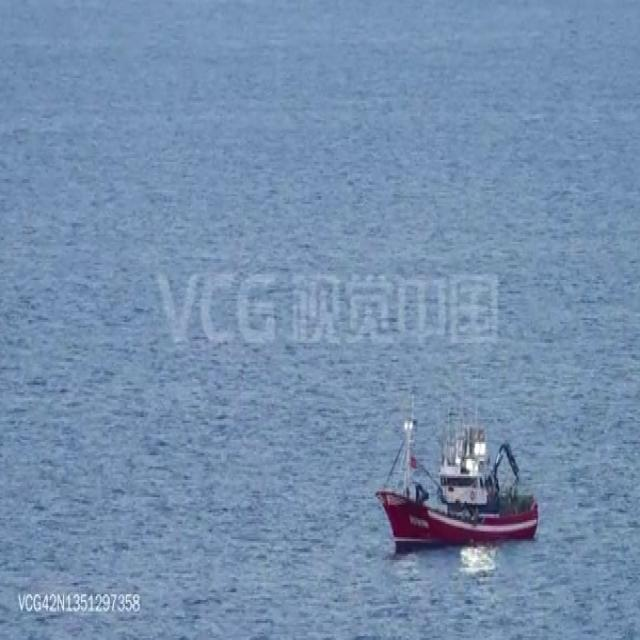fishing boat: (372, 383, 538, 550)
